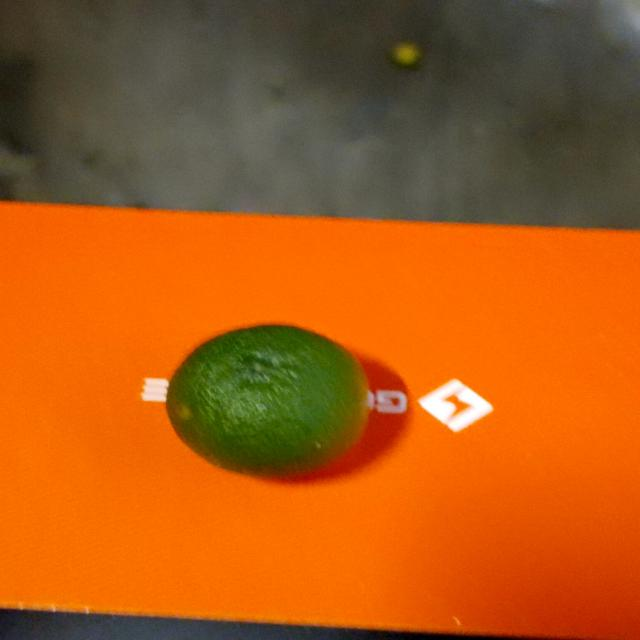heathy: (161, 320, 380, 484)
